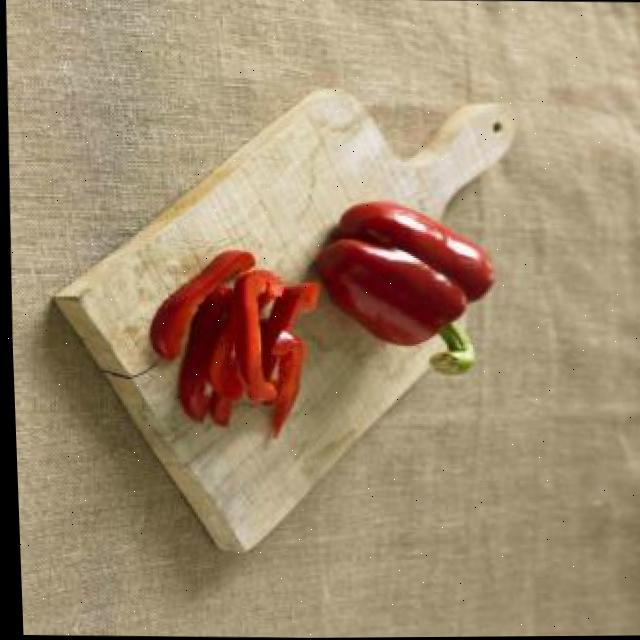Wet: (316, 201, 507, 380)
